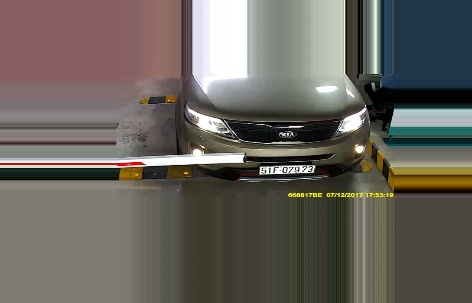plate: (256, 159, 317, 180)
